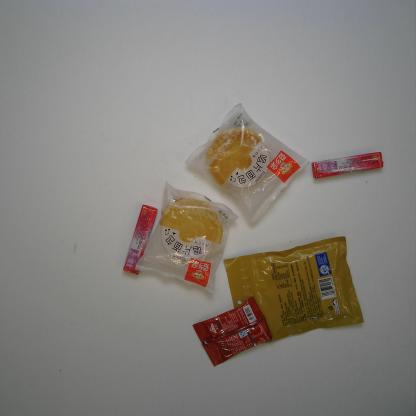Candy: (123, 204, 157, 276), (311, 151, 384, 179)
Dessert: (184, 102, 310, 226), (134, 180, 239, 295)
Dried Fruit: (223, 236, 364, 343)
Instant Drink: (192, 295, 274, 368)
